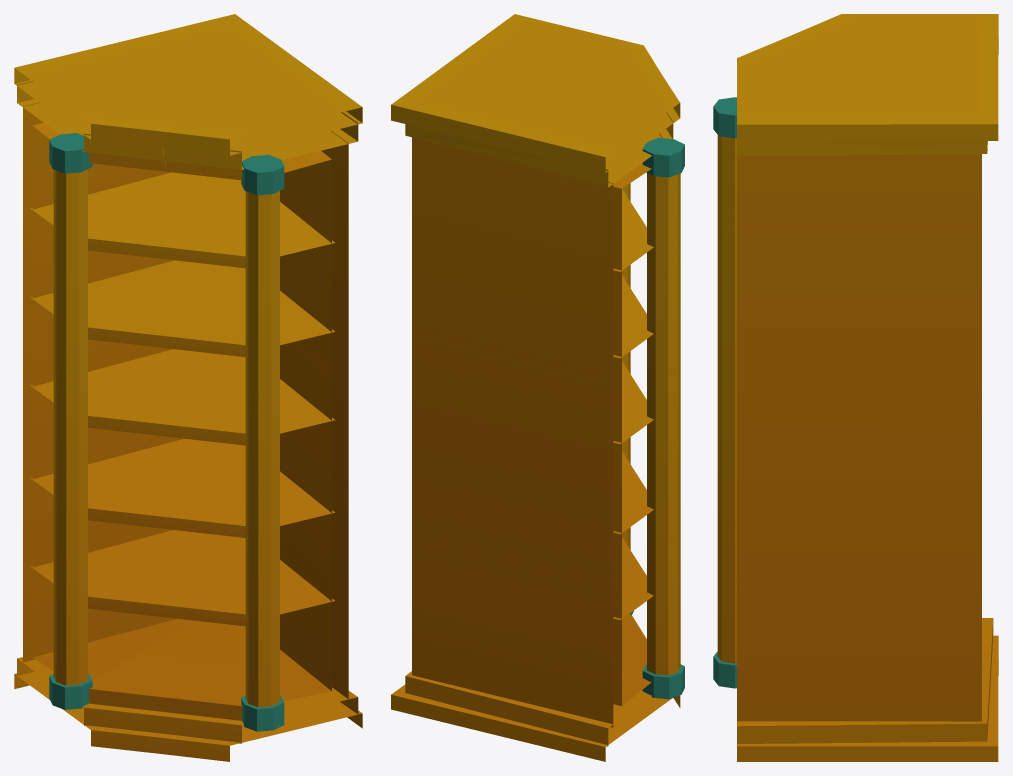
Rendered from Bookshelf 02 Corner.fbx.
3 views of the same model, side by side, from view 1: azimuth 30°, elevation 25°; view 2: azimuth 150°, elevation 25°; view 3: azimuth 270°, elevation 25° (orthographic). The views are drawn at different scales.
Visible parts, largest first — view 1: Bookshelf 02 Corner; view 2: Bookshelf 02 Corner; view 3: Bookshelf 02 Corner.
Boxes of the visible parts, left/top/right/bottom form: Bookshelf 02 Corner: left=14, top=14, right=362, bottom=761; Bookshelf 02 Corner: left=391, top=14, right=684, bottom=761; Bookshelf 02 Corner: left=713, top=14, right=998, bottom=761.
Bounding box in the file's own units: 108 × 267 × 108.
